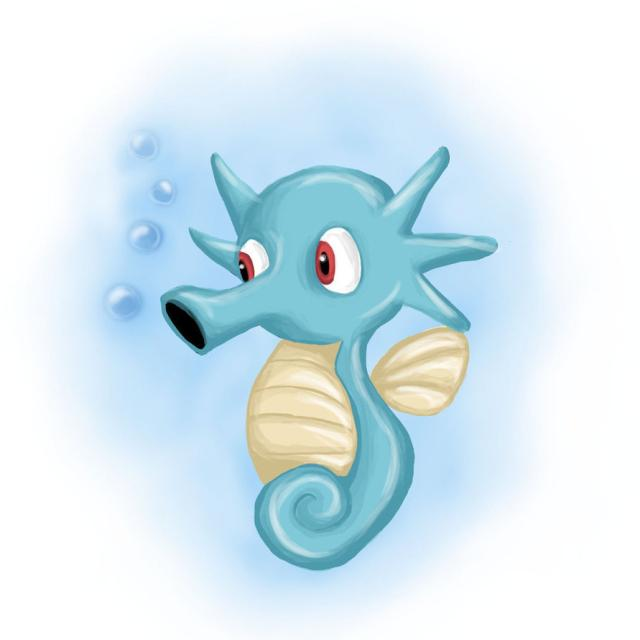Horsea: (186, 144, 474, 576)
